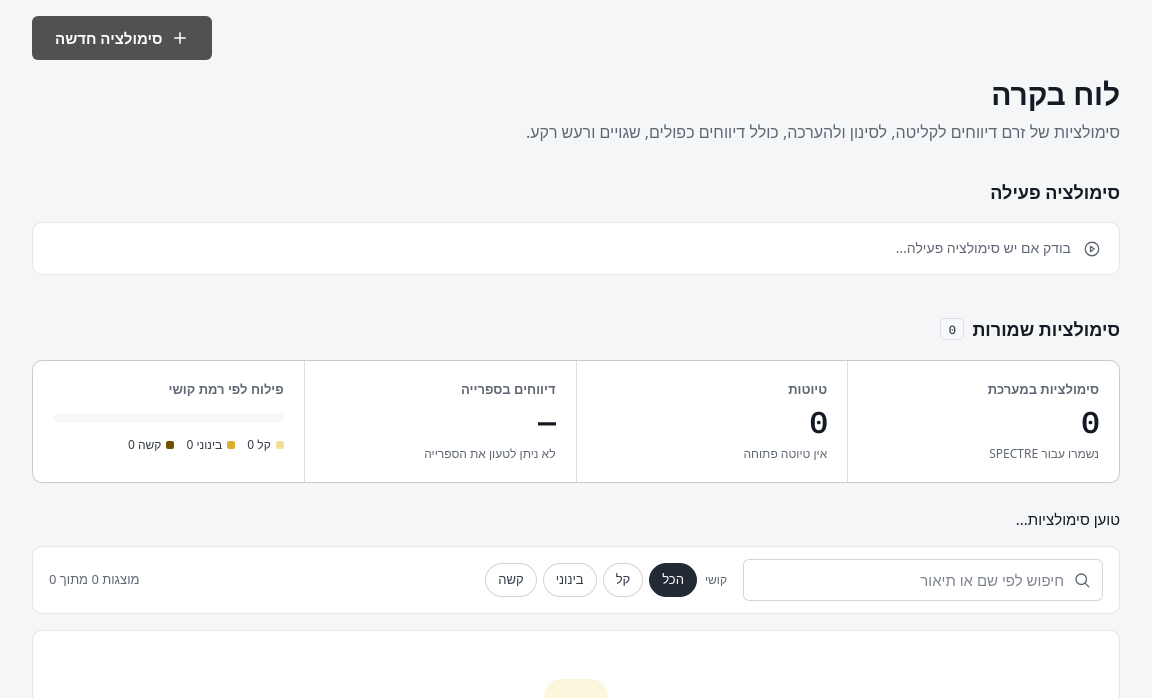
Test: Simulation Flow - Mockup Alignment › opens modal with Manual and AI options when clicking new simulation button
Click the button "סימולציה חדשה".
click(122, 38)  # box [32,16,212,60]
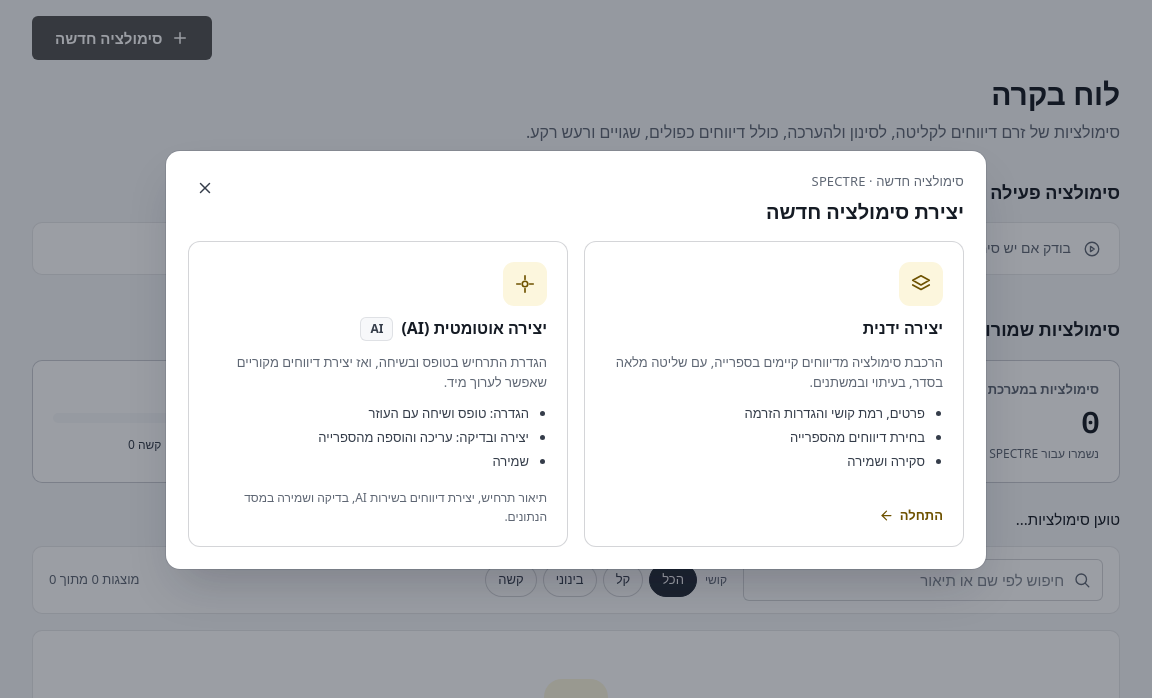
Expected: the heading "יצירת סימולציה חדשה" is shown, [766,198,964,225]
Expected: the text "יצירה ידנית" is shown, [863,316,943,342]
Expected: the text "יצירה אוטומטית (AI)" is shown, [401,316,547,342]
